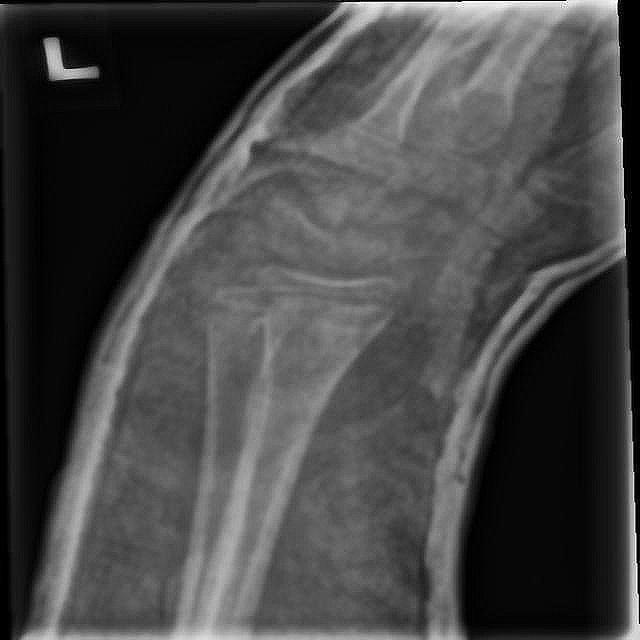bone: (243, 281, 406, 338)
